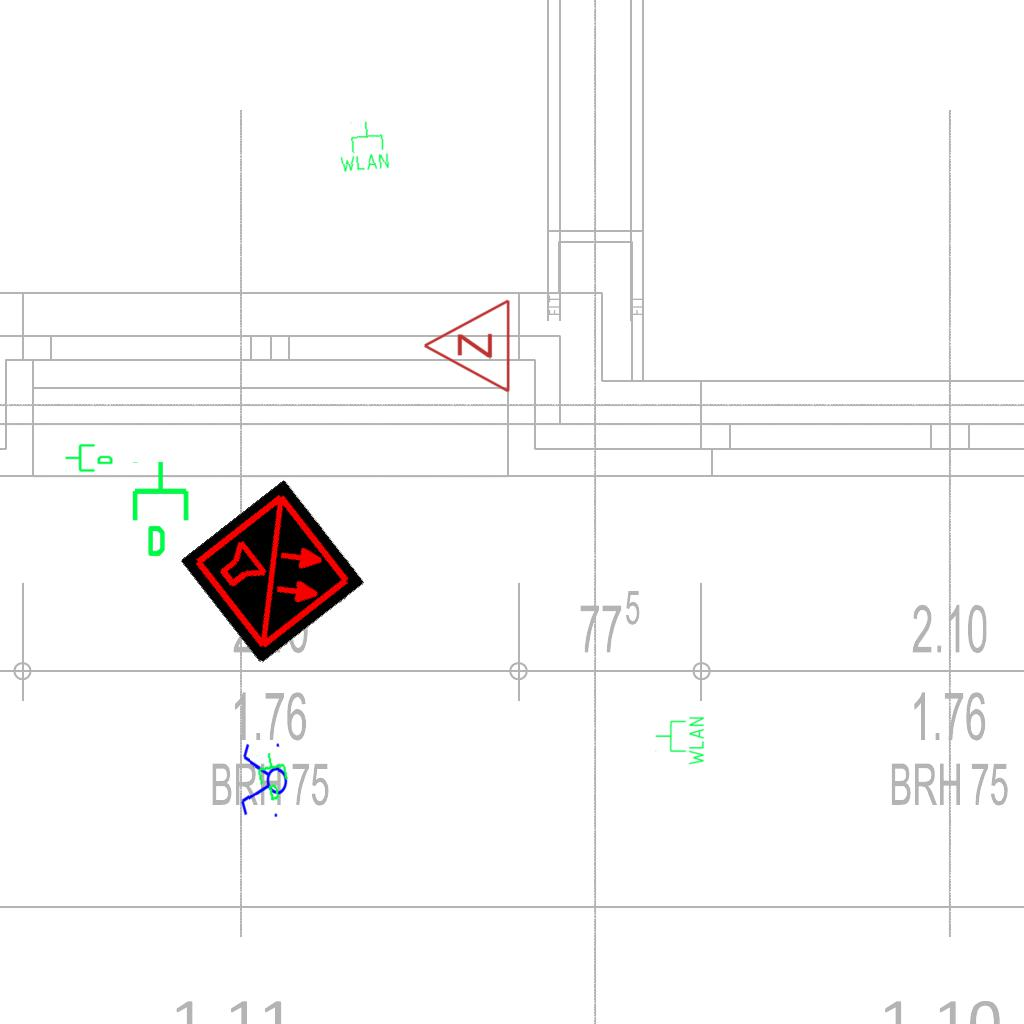Datenanschluss_einfach: (128, 459, 197, 559), (252, 748, 296, 804), (64, 440, 114, 474)
OKW_Multisensormelder_(Kombination_optischer_Rauch-Kahlenmonoxid_Waerme-Melder): (180, 479, 366, 665)
Serienschalter: (238, 738, 290, 824)
WLAN: (334, 117, 392, 175), (654, 715, 706, 767)
Zimmersignalleuchte: (417, 298, 517, 396)
